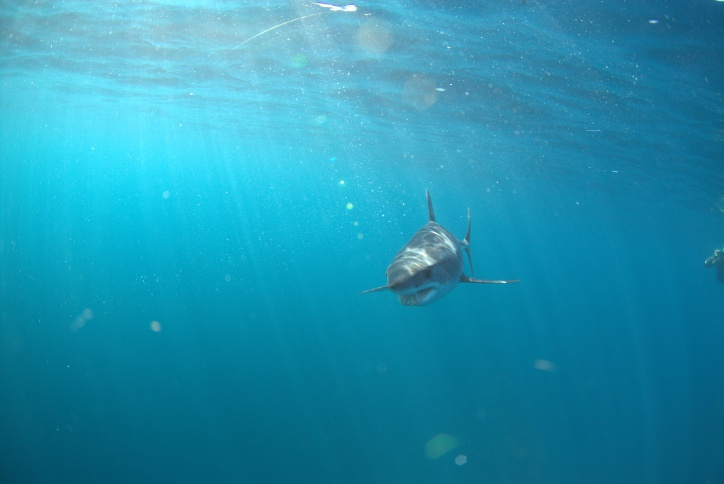Mako: (336, 182, 527, 320)
